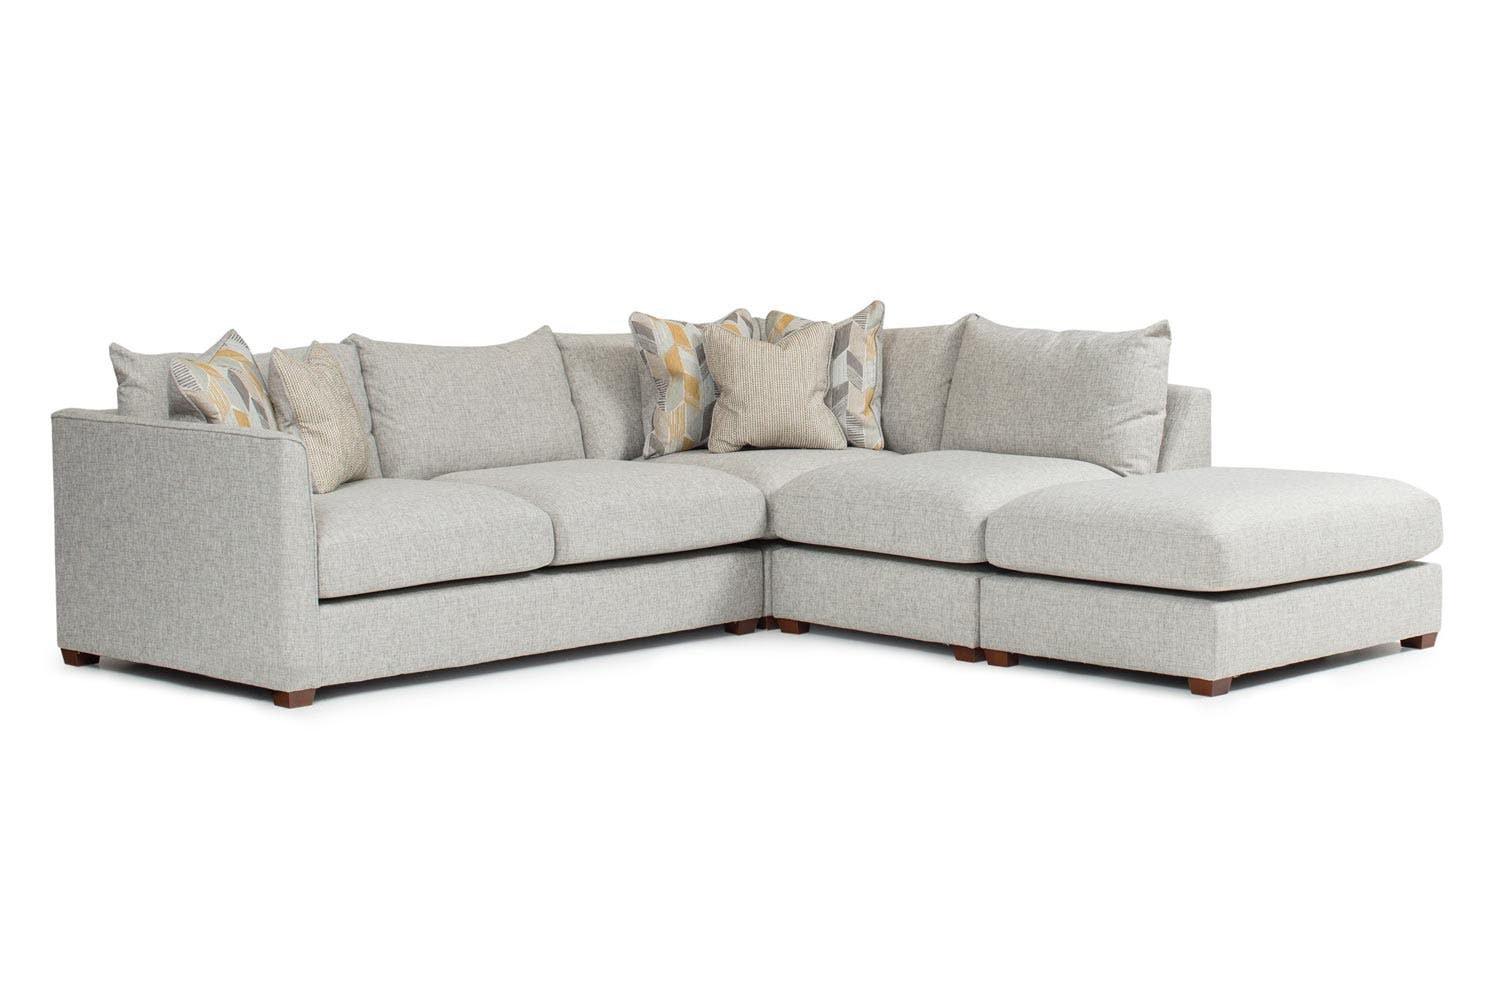chairs: (48, 294, 1452, 705)
